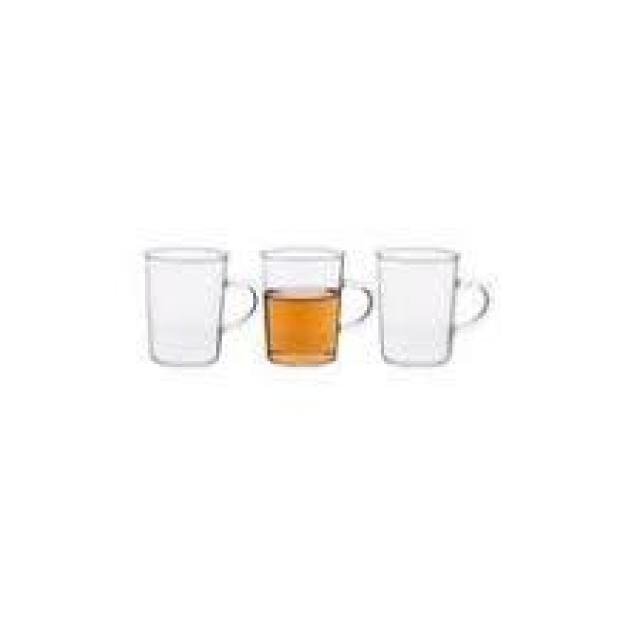non-organic waste: (374, 242, 494, 367), (259, 246, 375, 368)
